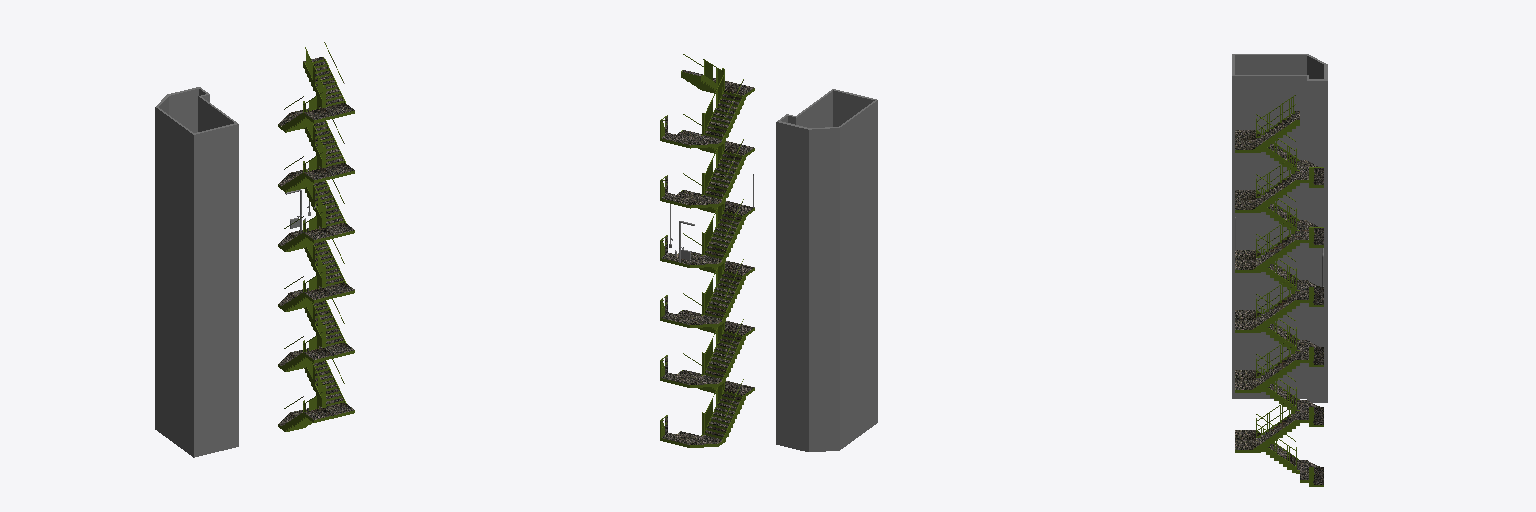
The picture shows the model from 3 angles: view 1: azimuth 30°, elevation 25°; view 2: azimuth 150°, elevation 25°; view 3: azimuth 270°, elevation 25°; orthographic projection.
Parts seen in each view (by area): view 1: Wall, StairsMaster Stairs6, StairsMaster Stairs7, StairsMaster Stairs11, StairsMaster Stairs10, StairsMaster Stairs9, StairsMaster Stairs8; view 2: Wall, StairsMaster Stairs6, StairsMaster Stairs10, StairsMaster Stairs11, StairsMaster Stairs7, StairsMaster Stairs9, StairsMaster Stairs8; view 3: Wall, StairsMaster Stairs11, StairsMaster Stairs9, StairsMaster Stairs10, StairsMaster Stairs6, StairsMaster Stairs8, StairsMaster Stairs7.
Part boxes in pixels (x1,y1,x2,y2): Wall: (155,87,238,457); StairsMaster Stairs6: (278,51,354,132); StairsMaster Stairs7: (278,111,354,192); StairsMaster Stairs11: (278,360,354,431); StairsMaster Stairs10: (278,300,354,371); StairsMaster Stairs9: (278,241,354,311); StairsMaster Stairs8: (278,171,354,251); Wall: (776,89,877,451); StairsMaster Stairs6: (660,60,754,148); StairsMaster Stairs10: (660,310,754,387); StairsMaster Stairs11: (660,370,754,447); StairsMaster Stairs7: (660,130,754,208); StairsMaster Stairs9: (660,251,754,327); StairsMaster Stairs8: (660,190,754,267); Wall: (1232,54,1327,402); StairsMaster Stairs11: (1235,397,1323,486); StairsMaster Stairs9: (1235,277,1323,366); StairsMaster Stairs10: (1235,337,1323,426); StairsMaster Stairs6: (1235,97,1323,187); StairsMaster Stairs8: (1235,217,1323,306); StairsMaster Stairs7: (1235,157,1323,247).
Bounding box in the file's own units: 1147 × 2409 × 554.
Materials: 2 (1 with a texture image).